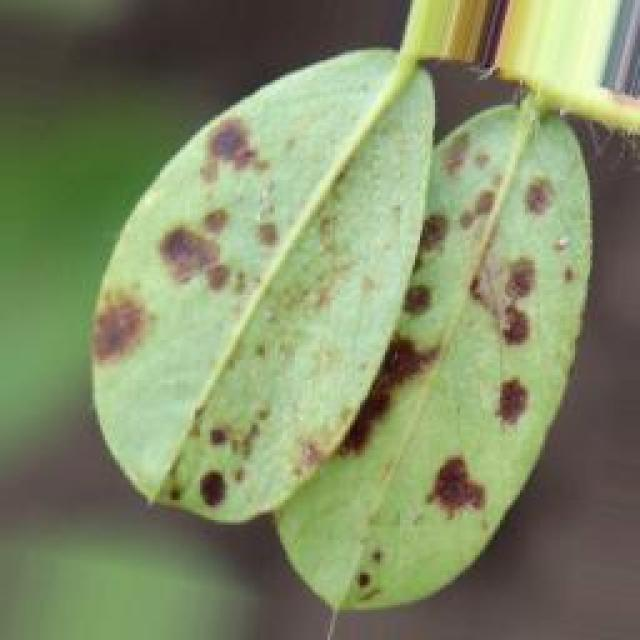Whitefly: (76, 29, 582, 624)
